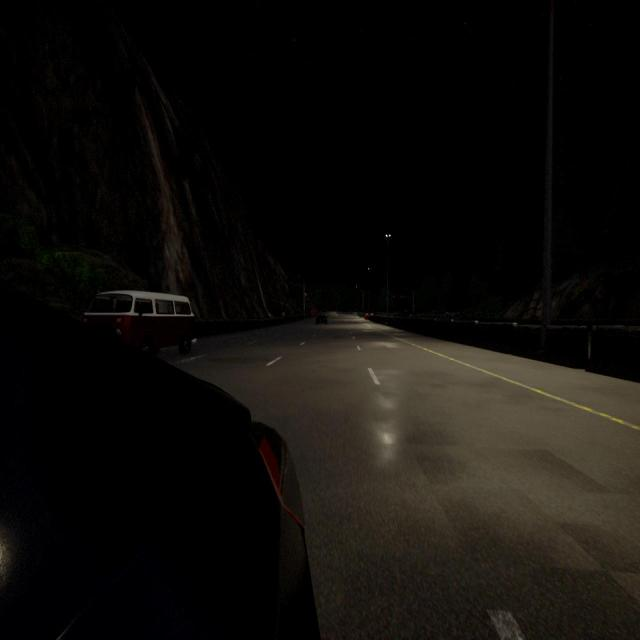Vehicle: (0, 288, 319, 640), (81, 291, 199, 364), (315, 313, 328, 325)
